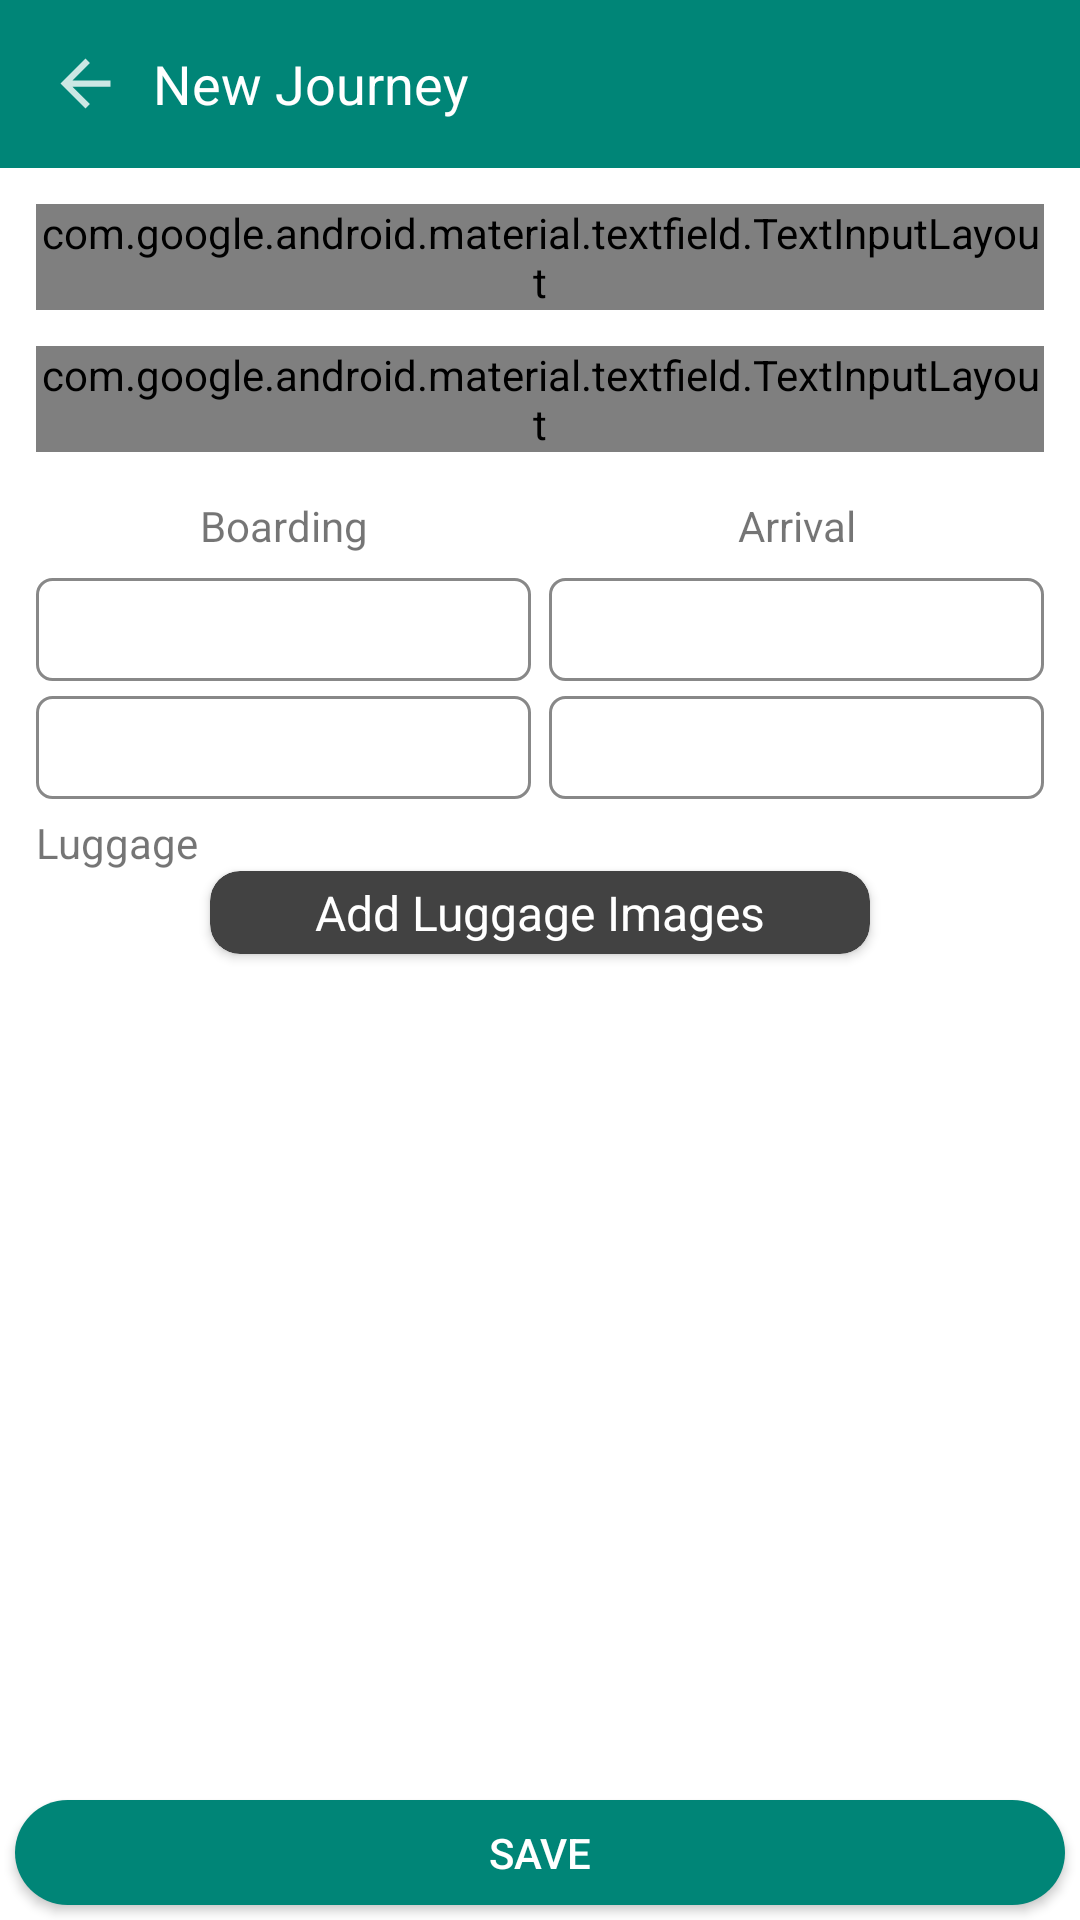

Where icons sit on this 1080 x 1920 app screen, as (x1, y1, x2, y2):
arrow back: (60, 58, 111, 109)
